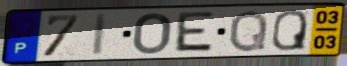7: (44, 13, 81, 58)
E: (171, 10, 217, 54)
I: (90, 12, 111, 57)
O: (131, 12, 174, 56)
Q: (227, 8, 271, 54), (270, 9, 309, 52)
